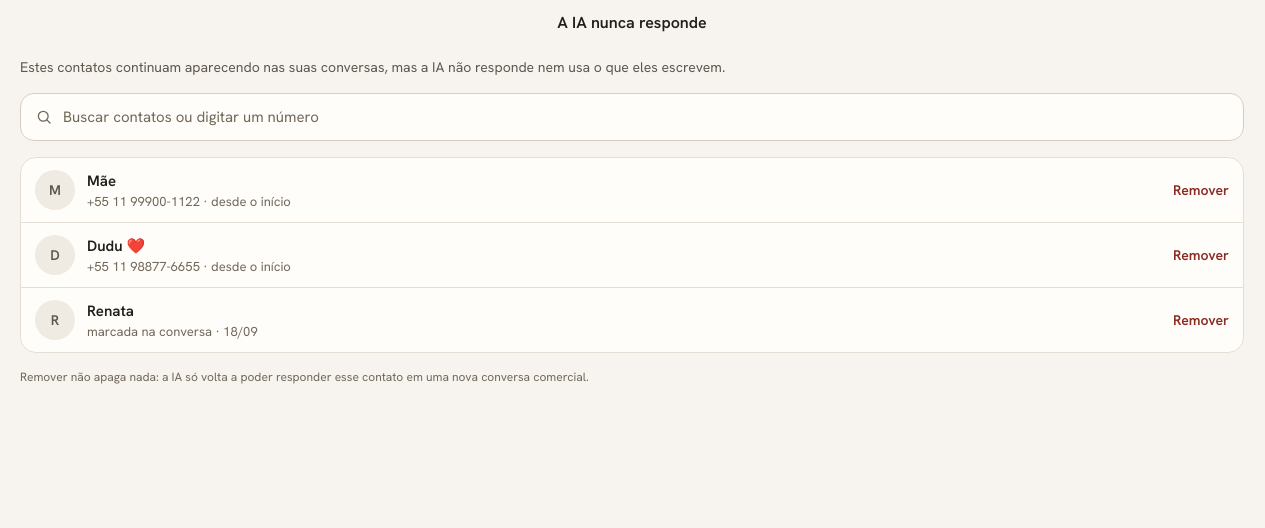
Test: Goal140 a busca › Adicionar só aparece com 10 dígitos ou mais
Expected: the text "Mãe" is shown, [87, 171, 116, 191]
Type "11 9999-000" into the search field labelled "Buscar contatos ou digitar um número" at point(646, 117), box [63, 94, 1229, 140]
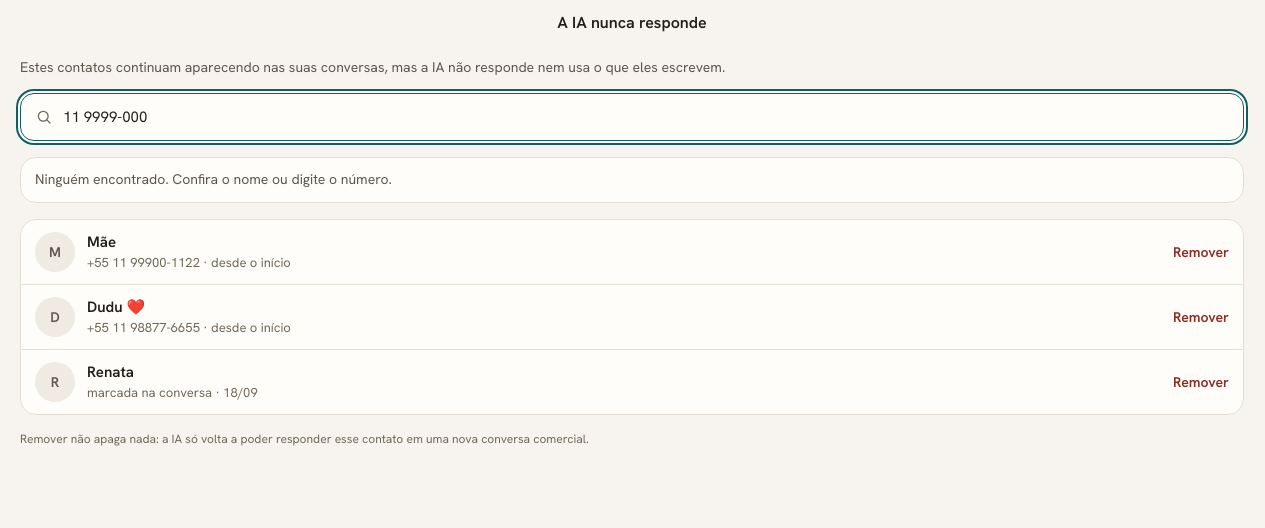
Expected: the button "Adicionar" is not shown
Result: the text "Ninguém encontrado. Confira o nome ou digite o número." is shown at [35, 170, 392, 188]
Type "0" into the search field named "Buscar contatos ou digitar um número" at point(646, 117), box [63, 94, 1229, 140]
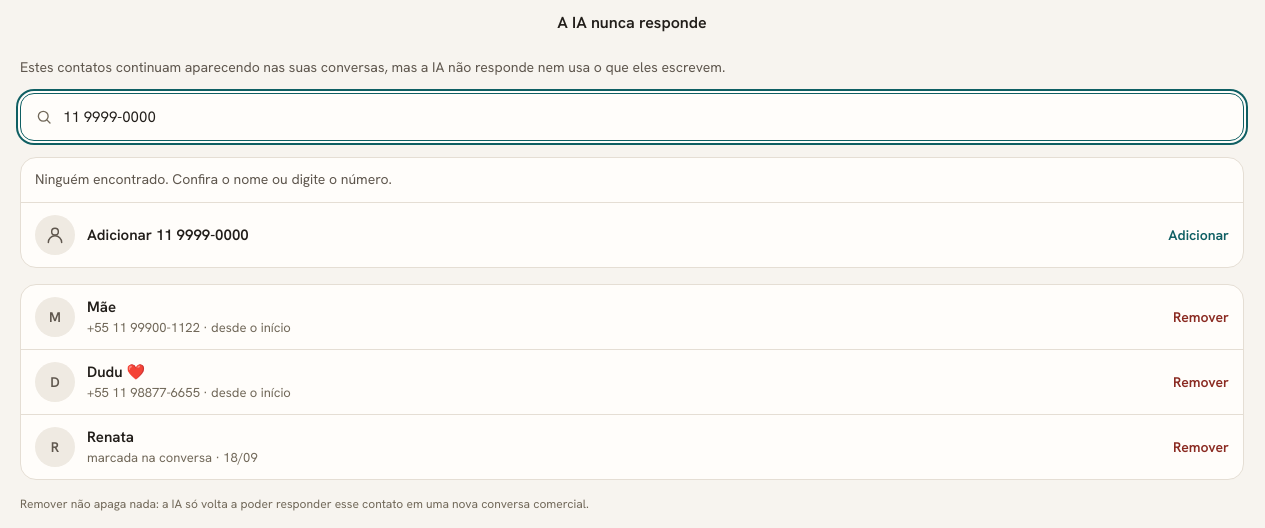
Result: the button "Adicionar" is shown at [1160, 215, 1237, 255]
Result: the text "Adicionar 11 9999-0000" is shown at [87, 225, 249, 245]
